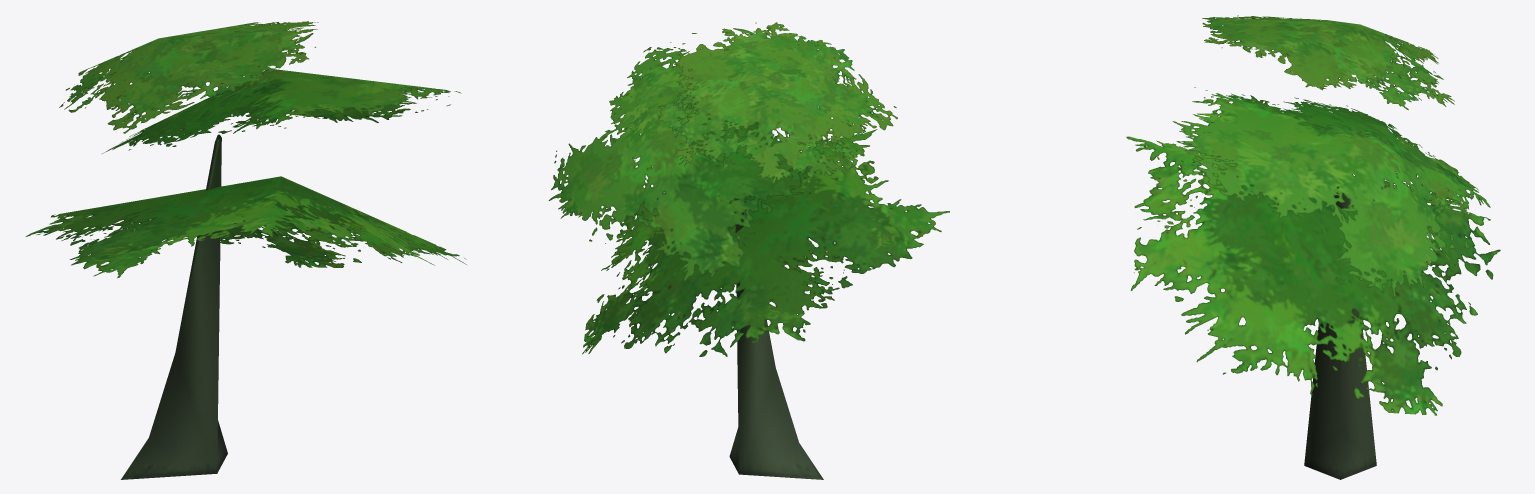
File: Sce_tree_01.fbx
3 renders of one model, left to right at view 1: azimuth 30°, elevation 25°; view 2: azimuth 150°, elevation 25°; view 3: azimuth 270°, elevation 25°, orthographic. The views are drawn at different scales.
Parts seen in each view (by area): view 1: polySurface508; view 2: polySurface508; view 3: polySurface508.
Part boxes in pixels (left/top/right/bottom): polySurface508: left=25, top=21, right=466, bottom=479; polySurface508: left=548, top=22, right=949, bottom=479; polySurface508: left=1126, top=15, right=1500, bottom=479.
Size of the model in its own units: 36.49 by 33.69 by 35.86.
